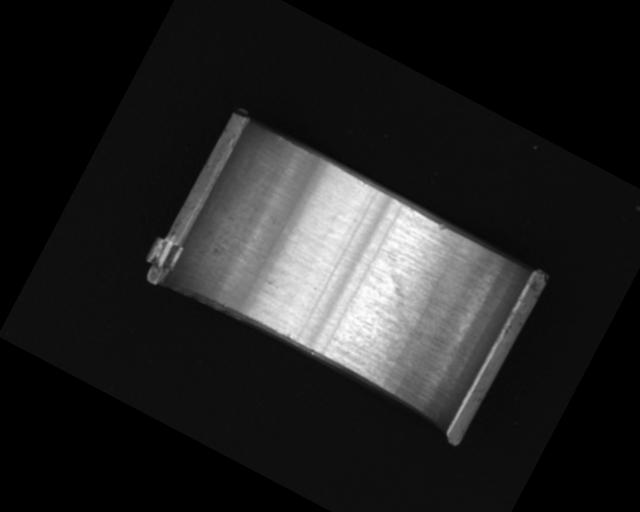bruise: (435, 221, 449, 234)
